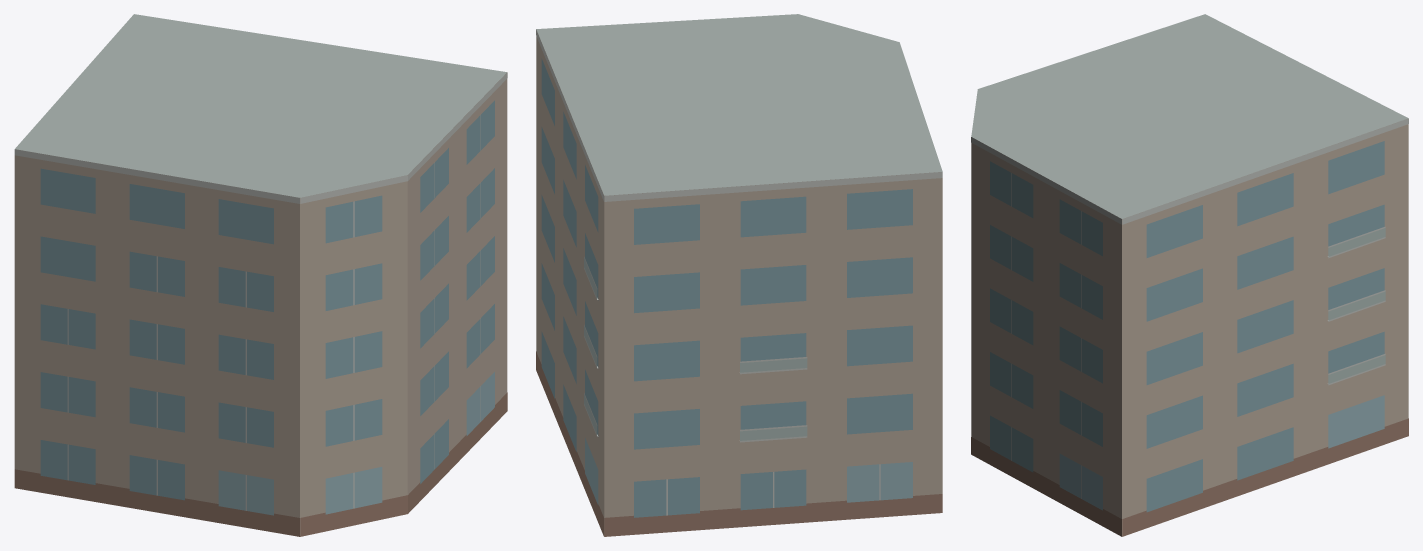
Rendered from survey-upis-33015662.glb.
The picture shows the model from 3 angles, left to right: view 1: azimuth 30°, elevation 25°; view 2: azimuth 150°, elevation 25°; view 3: azimuth 270°, elevation 25°; orthographic projection. The views are drawn at different scales.
Parts seen in each view (by area): view 1: survey-upis-33015662.tmp; view 2: survey-upis-33015662.tmp; view 3: survey-upis-33015662.tmp.
Part boxes in pixels (x1,y1,x2,y2): survey-upis-33015662.tmp: (14, 14, 507, 536); survey-upis-33015662.tmp: (536, 14, 942, 536); survey-upis-33015662.tmp: (971, 14, 1408, 536).
Bounding box in the file's own units: 18.56 × 13.4 × 16.73.
